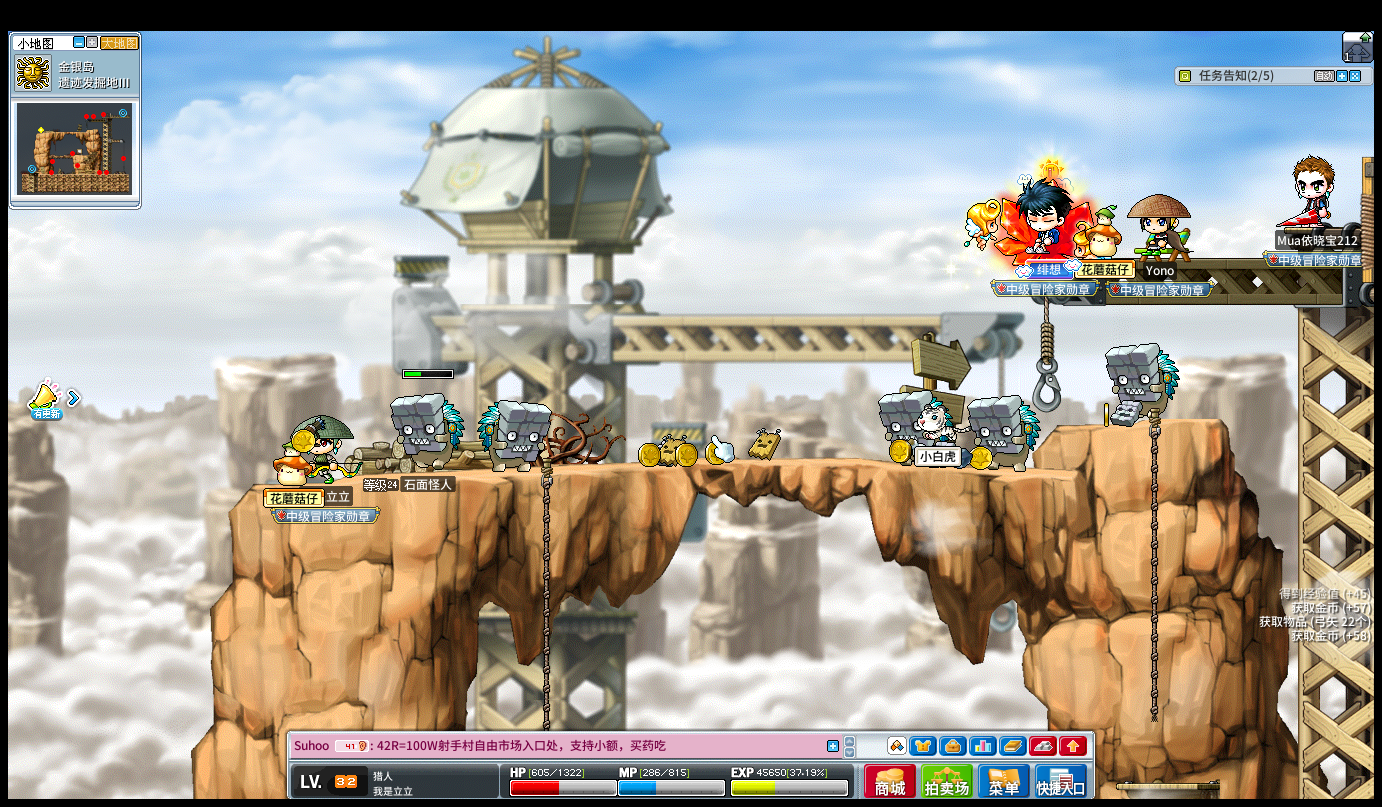floor: (296, 454, 1109, 481), (1058, 416, 1228, 432)
monster: (1103, 341, 1179, 426), (390, 392, 464, 471), (969, 394, 1041, 472), (478, 399, 551, 474), (877, 389, 928, 465)
rope: (1146, 403, 1160, 723), (539, 456, 551, 740), (540, 457, 552, 673), (1040, 299, 1053, 395)
